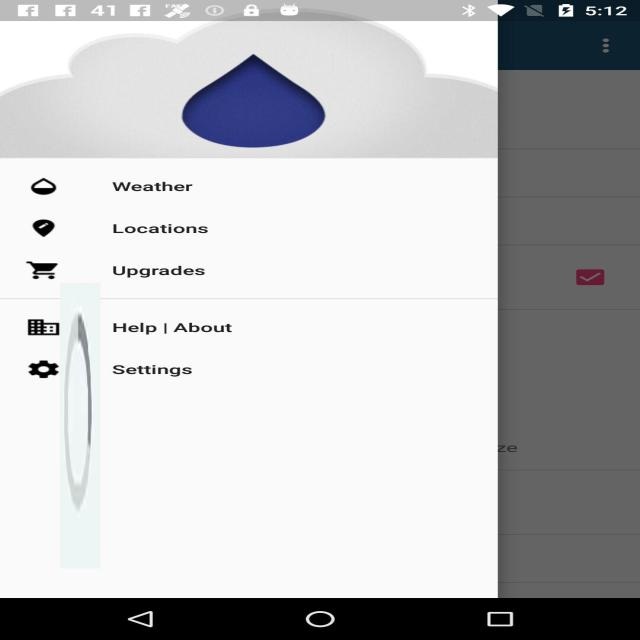misdirection: (60, 282, 101, 568)
